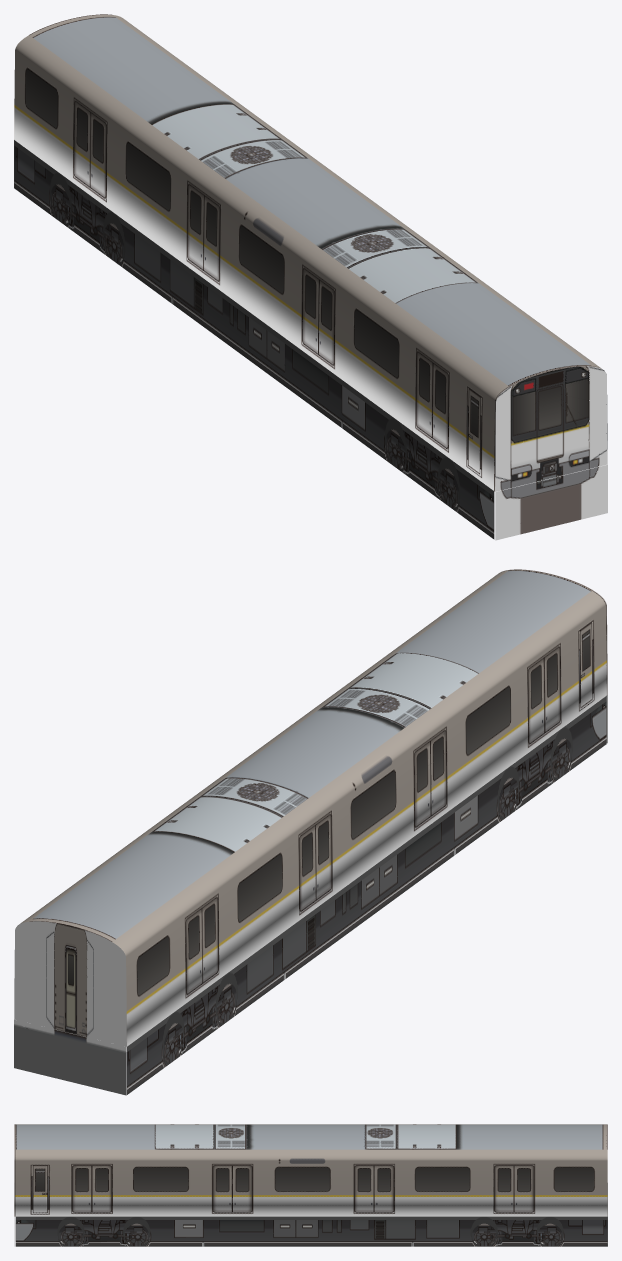
Rendered from car1.glb.
3 views of the same model, one above another, from view 1: azimuth 30°, elevation 25°; view 2: azimuth 150°, elevation 25°; view 3: azimuth 270°, elevation 25° (orthographic). The views are drawn at different scales.
Visible parts, largest first — view 1: kintetsu-5820-car1; view 2: kintetsu-5820-car1; view 3: kintetsu-5820-car1.
Part boxes in pixels (box(x1,y1,x2,y2)): kintetsu-5820-car1: box(14, 14, 607, 540); kintetsu-5820-car1: box(14, 569, 607, 1095); kintetsu-5820-car1: box(14, 1124, 607, 1246).
Bounding box in the file's own units: 2.8 × 3.7 × 20.75.
9 materials, 8 textured.
